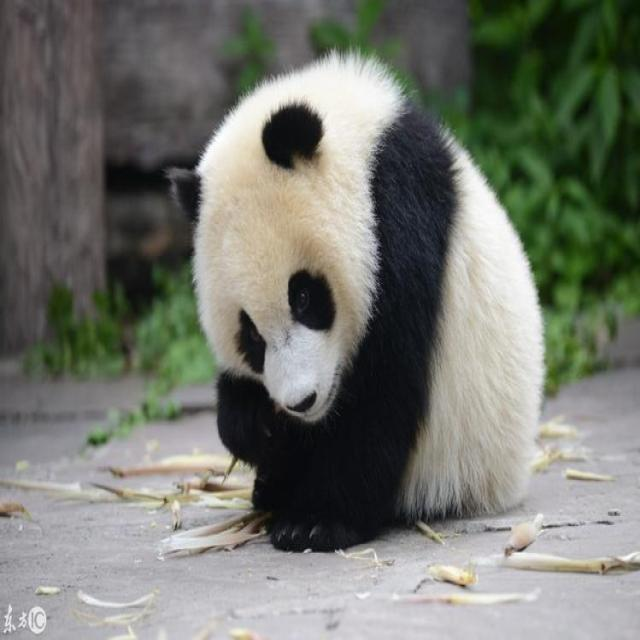panda: (180, 28, 568, 565)
